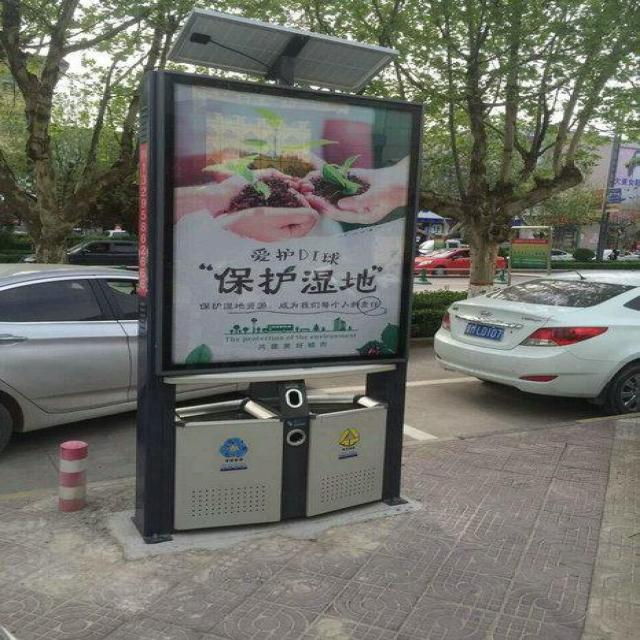garbage_bin: (128, 364, 412, 543)
